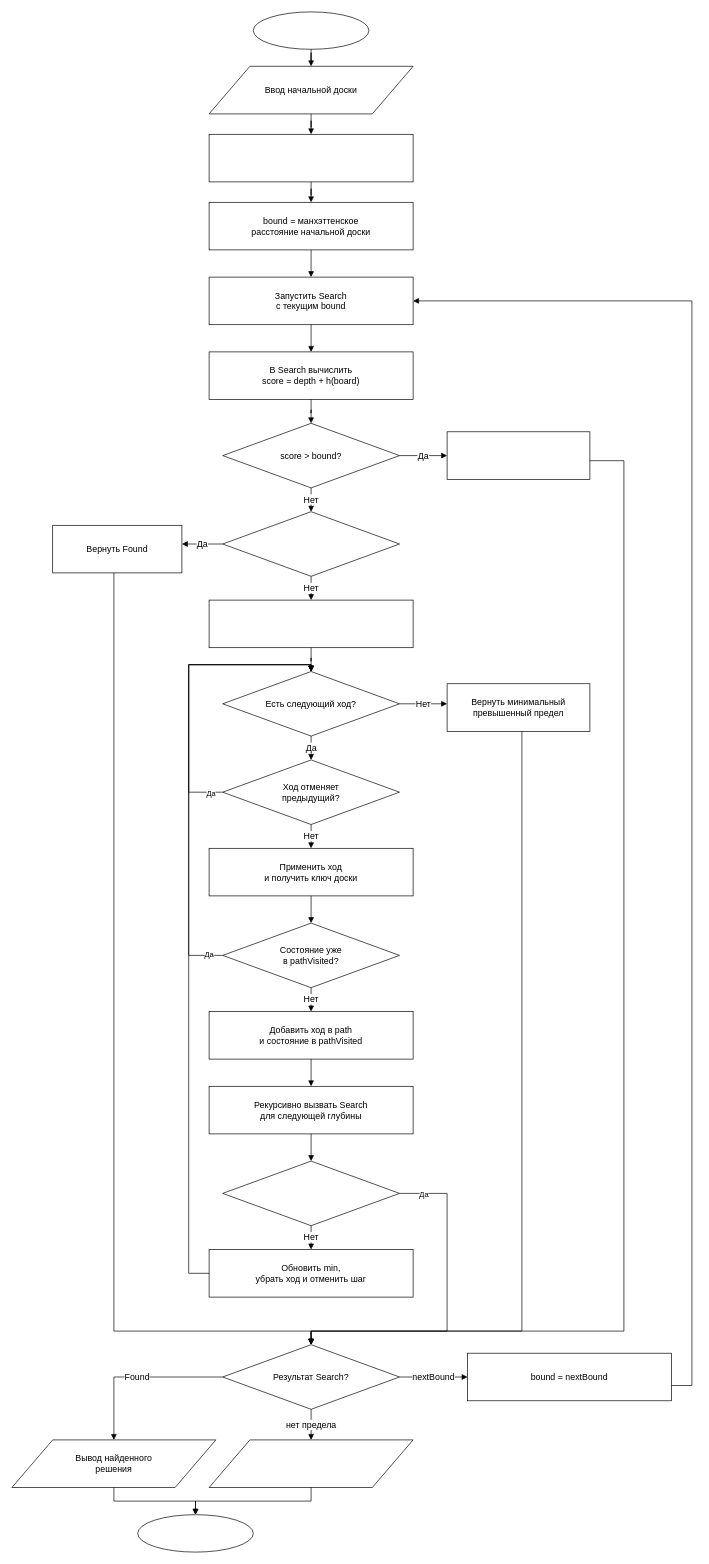
Image size: 709x1564. Some labels were removed from this diagram. Here are the shapes that lost their labels. From the top down, the centre of each, then its label:
At (x=311, y=30): "Начало".
At (x=310, y=158): "Создать рабочую доску, path и pathVisited".
At (x=518, y=455): "Вернуть score как новый предел".
At (x=311, y=543): "Доска целевая?".
At (x=310, y=623): "Перебор допустимых ходов".
At (x=311, y=1193): "Получен Found?".
At (x=310, y=1463): "Вывод: решение не найдено".
At (x=195, y=1533): "Конец".
